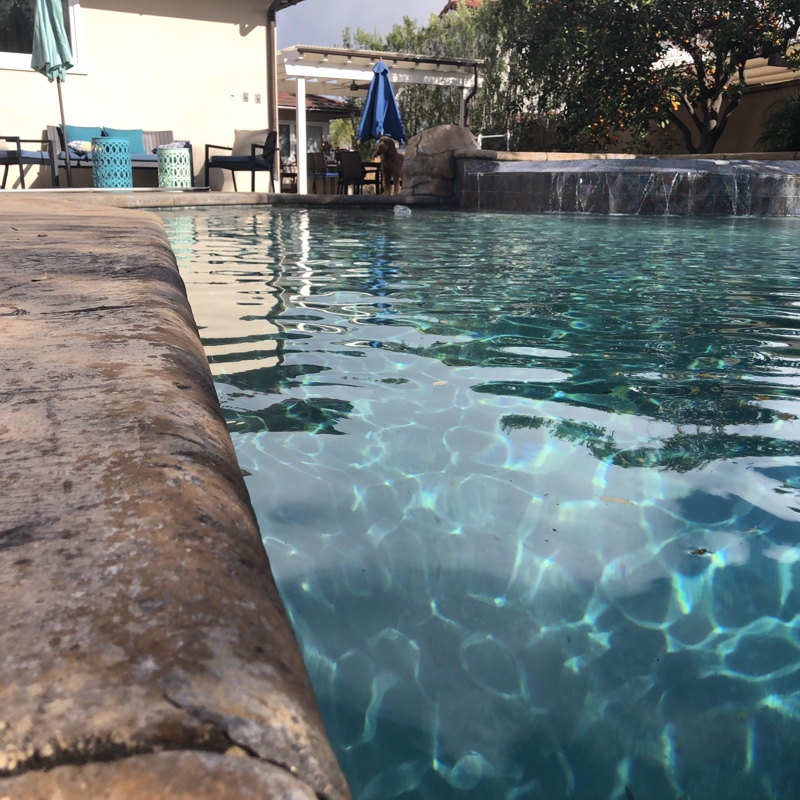Plastic Bottle: (392, 202, 410, 218)
